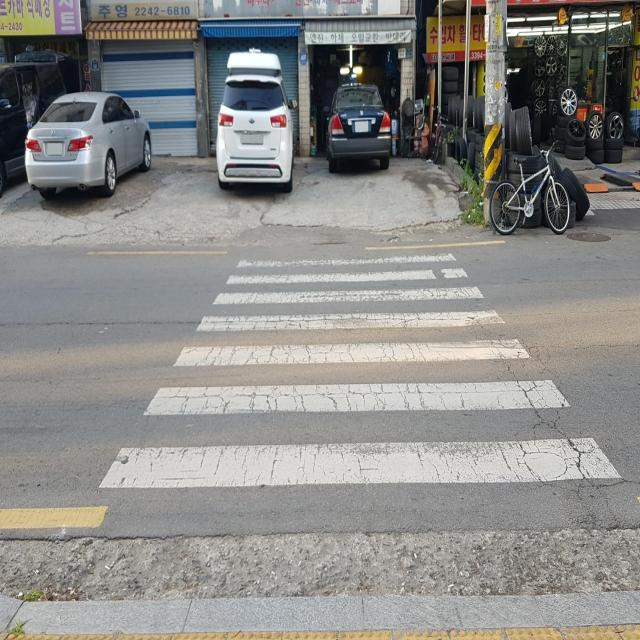횡단보도: (93, 249, 624, 493)
